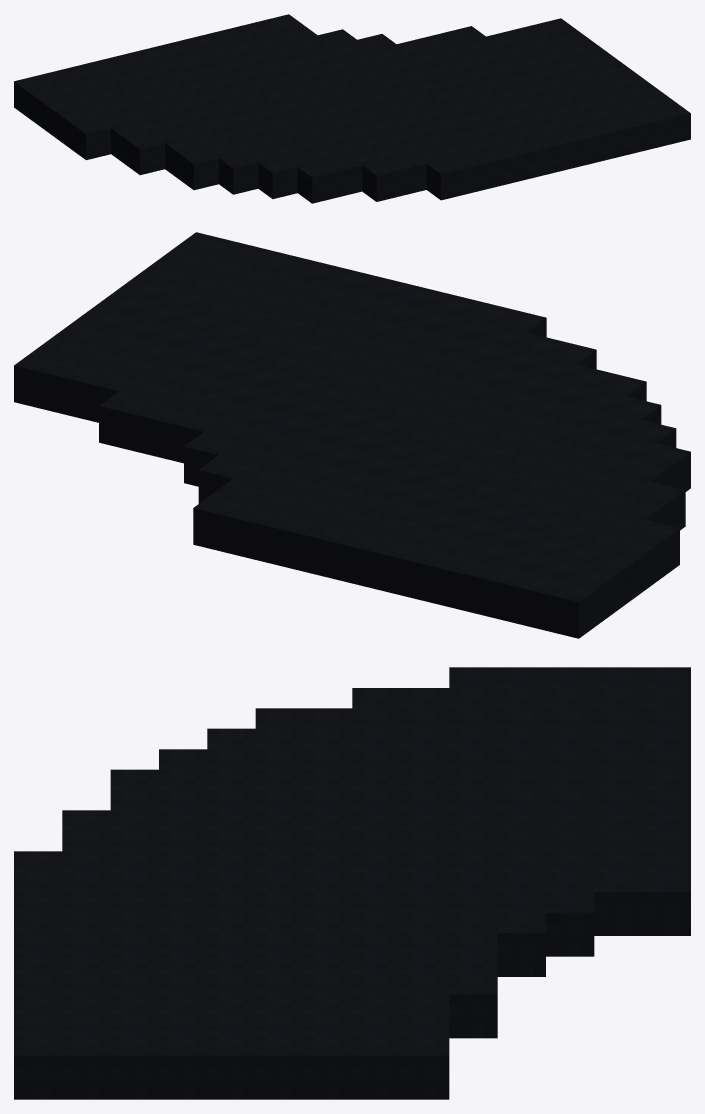
File: CurvaCaverna4.fbx
The picture shows the model from 3 angles, top to bottom: view 1: azimuth 30°, elevation 25°; view 2: azimuth 150°, elevation 25°; view 3: azimuth 270°, elevation 25°; orthographic projection. The views are drawn at different scales.
Parts seen in each view (by area): view 1: Curva Caverna 4; view 2: Curva Caverna 4; view 3: Curva Caverna 4.
Boxes of the visible parts, x1,y1,x2,y2 form: Curva Caverna 4: [14, 14, 690, 203]; Curva Caverna 4: [14, 232, 690, 638]; Curva Caverna 4: [14, 667, 690, 1099].
Bounding box in the file's own units: 1900 × 100 × 1400.
1 material, 1 textured.
